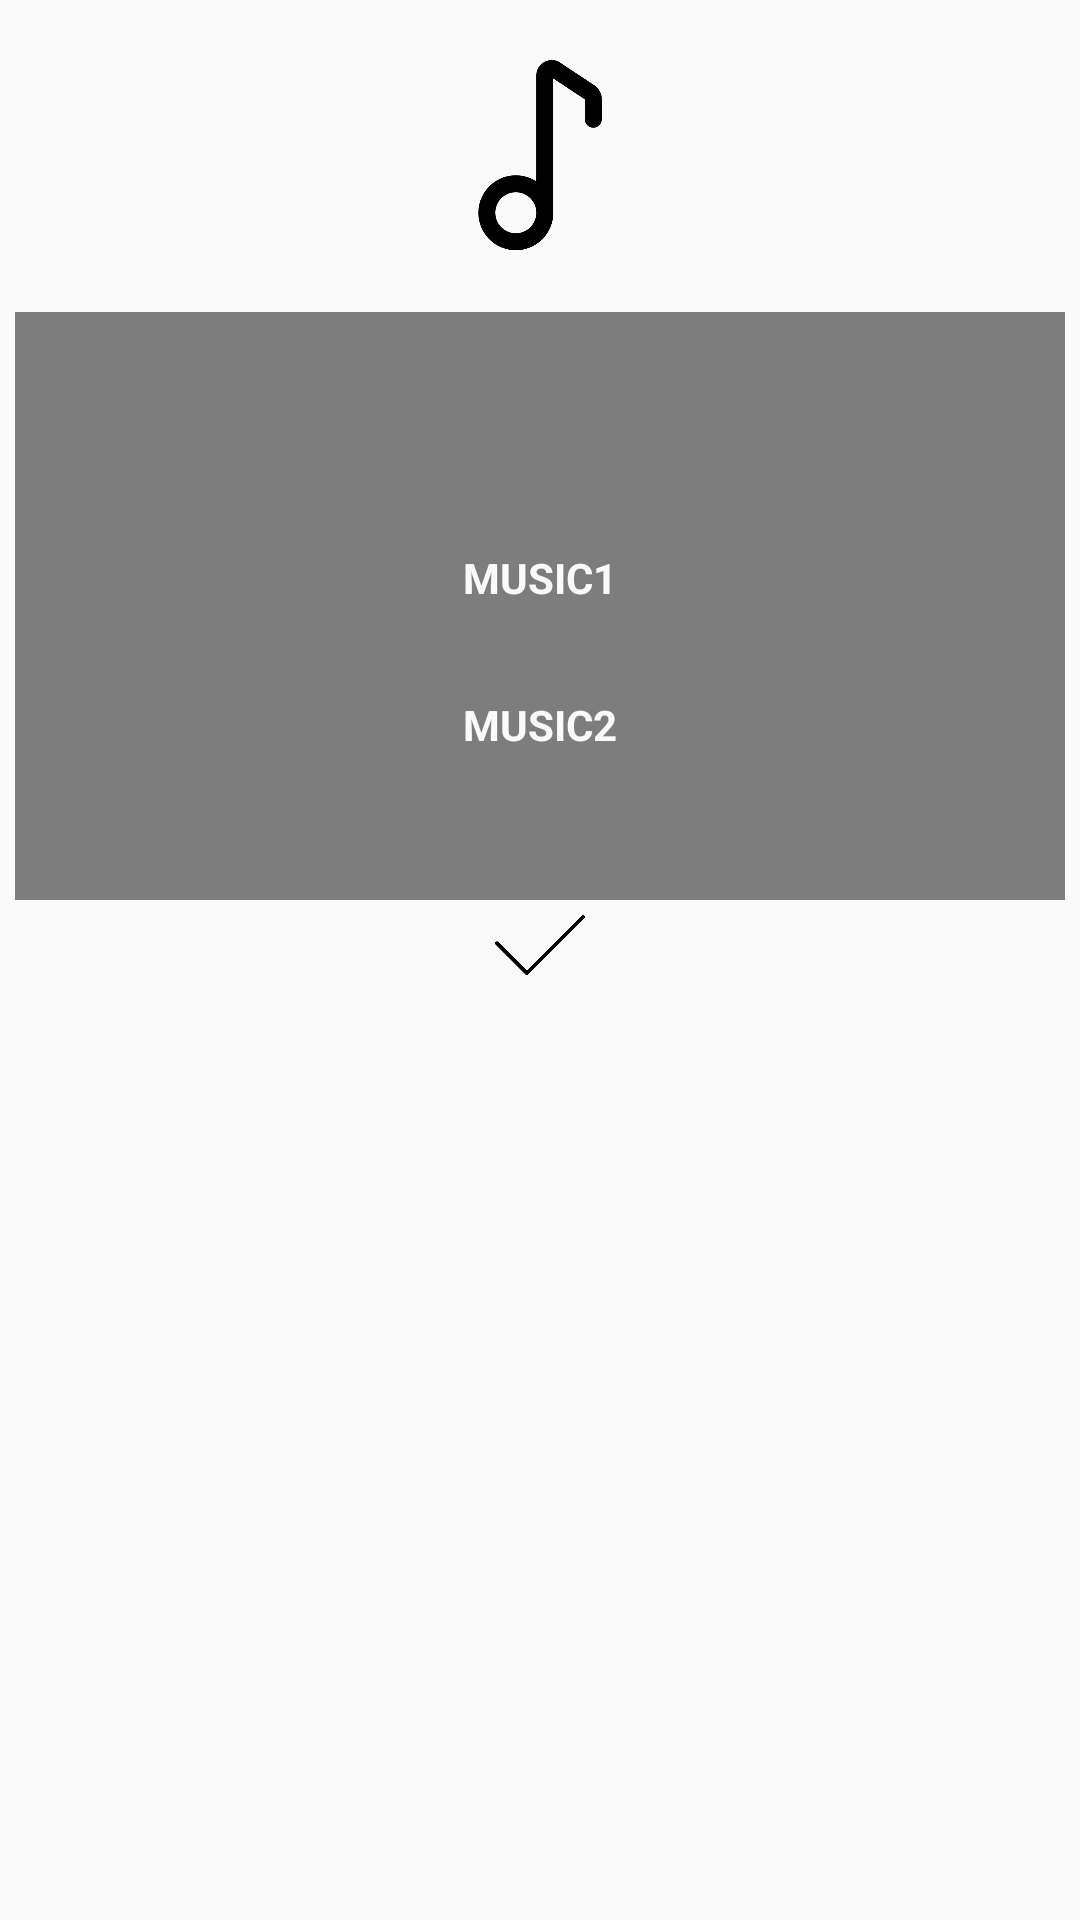

Point at icon controls on the screen. Image size 1080*1920, points as (x=x, y=y).
music: (x=540, y=155)
